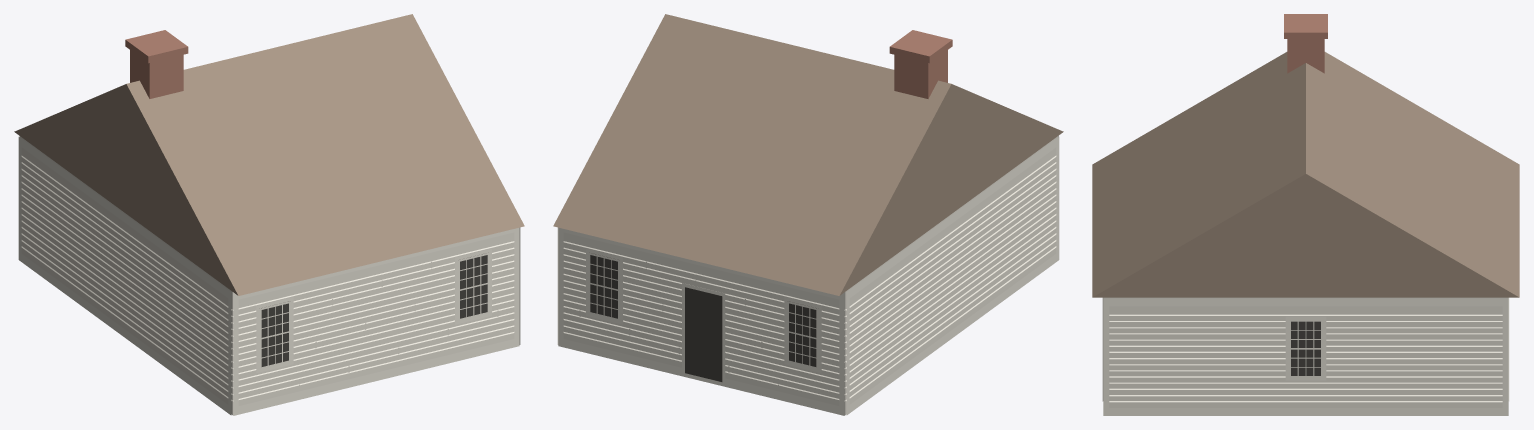
File: recon_1835_blk_school_section_tier_94_d5_07__inferred_1835.glb
3 renders of one model, left to right at view 1: azimuth 30°, elevation 25°; view 2: azimuth 150°, elevation 25°; view 3: azimuth 270°, elevation 25°, orthographic. The views are drawn at different scales.
Parts seen in each view (by area): view 1: recon_1835_blk_school_section_tier_94_d5_07__inferred_1835; view 2: recon_1835_blk_school_section_tier_94_d5_07__inferred_1835; view 3: recon_1835_blk_school_section_tier_94_d5_07__inferred_1835.
Part boxes in pixels (left/top/right/bottom): recon_1835_blk_school_section_tier_94_d5_07__inferred_1835: left=14, top=14, right=524, bottom=415; recon_1835_blk_school_section_tier_94_d5_07__inferred_1835: left=553, top=14, right=1063, bottom=415; recon_1835_blk_school_section_tier_94_d5_07__inferred_1835: left=1092, top=14, right=1519, bottom=415.
Size of the model in its own units: 7.12 by 6.74 by 9.56.
